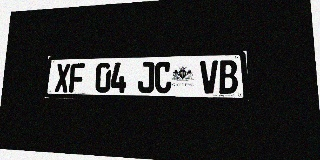0: (95, 63, 111, 93)
4: (110, 62, 127, 93)
B: (218, 60, 238, 94)
C: (154, 61, 171, 93)
F: (69, 63, 85, 92)
J: (137, 62, 154, 93)
V: (200, 60, 218, 94)
X: (54, 63, 70, 92)
